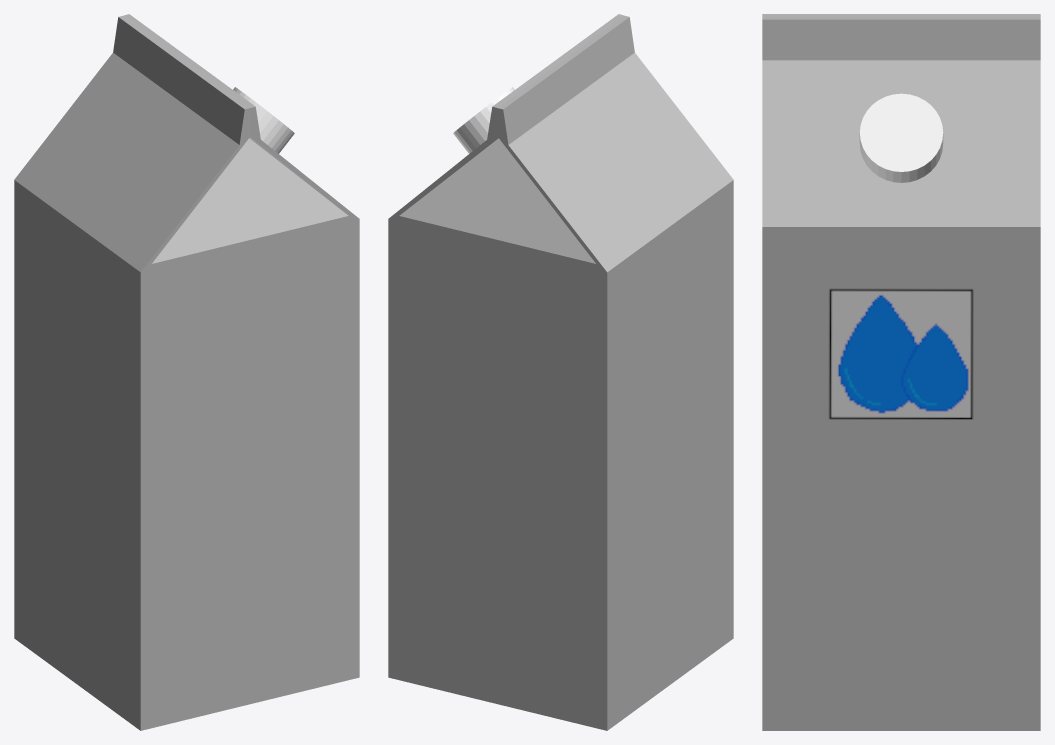
Rendered from WaterBottle.fbx.
3 renders of one model, left to right at view 1: azimuth 30°, elevation 25°; view 2: azimuth 150°, elevation 25°; view 3: azimuth 270°, elevation 25°, orthographic. The views are drawn at different scales.
Visible parts, largest first — view 1: Cube.001; view 2: Cube.001; view 3: Cube.001.
Boxes of the visible parts, x1,y1,x2,y2 form: Cube.001: (14,14,359,730); Cube.001: (388,14,733,730); Cube.001: (762,14,1040,730).
Size of the model in its own units: 200 by 520 by 200.
2 materials, 2 textured.
